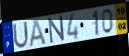0: (101, 7, 114, 35)
1: (92, 9, 101, 36)
4: (66, 13, 81, 41)
A: (29, 19, 48, 49)
N: (48, 15, 66, 45)
U: (12, 20, 30, 50)
